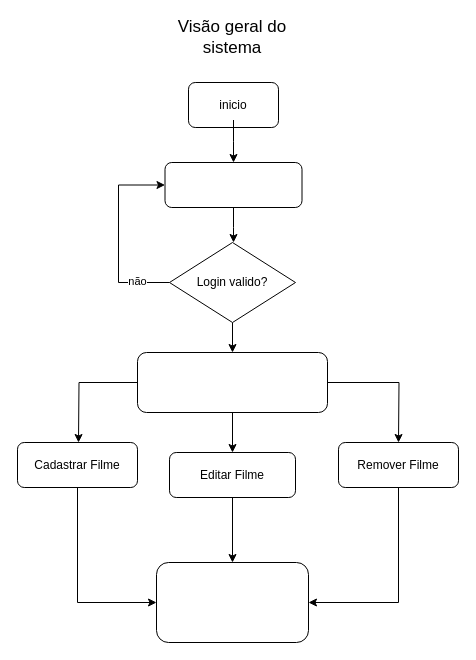
This 476x660 diagram has some shape labels left out. The shapes that lost their labels are listed below. From the top down, each one's centre as x and y in pixels, then its label:
At [233,185]: "TELA INICIAL informar e-mail e senha".
At [232,382]: "TELA PRINCIPAL Galeria de Filmes".
At [232,602]: "Atualiza Lista de Filmes Galeria de filmes".
